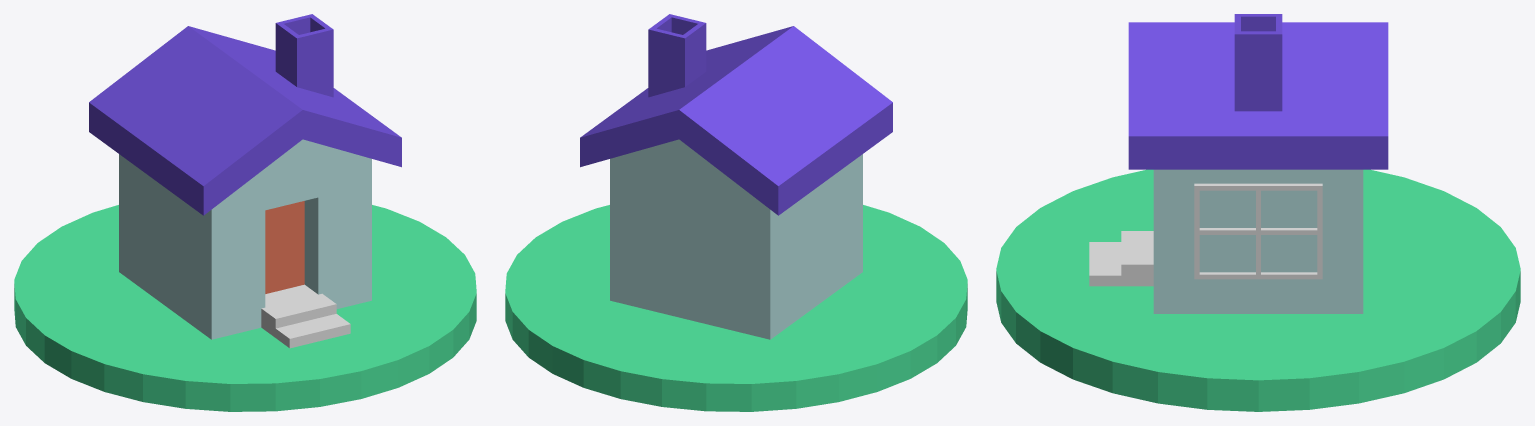
File: house.gltf
3 views of the same model, side by side, from view 1: azimuth 30°, elevation 25°; view 2: azimuth 150°, elevation 25°; view 3: azimuth 270°, elevation 25° (orthographic). The views are drawn at different scales.
Visible parts, largest first — view 1: 円, Cube, Cube.001, 立方体, 立方体.001, 立方体.002; view 2: 円, Cube, Cube.001, 立方体; view 3: 円, Cube.001, Cube, 立方体, Cube.002, 立方体.001, 立方体.002.
Boxes of the visible parts, box(x1,y1,x2,y2) form: 円: box(14, 205, 476, 411); Cube: box(119, 139, 371, 339); Cube.001: box(89, 26, 401, 215); 立方体: box(275, 14, 333, 97); 立方体.001: box(261, 284, 336, 337); 立方体.002: box(275, 314, 350, 348); 円: box(505, 205, 967, 411); Cube: box(610, 139, 862, 339); Cube.001: box(580, 26, 892, 215); 立方体: box(648, 14, 706, 97); 円: box(996, 169, 1520, 411); Cube.001: box(1128, 22, 1388, 169); Cube: box(1153, 169, 1363, 313); 立方体: box(1234, 14, 1282, 111); Cube.002: box(1194, 183, 1322, 279); 立方体.001: box(1121, 231, 1153, 286); 立方体.002: box(1089, 242, 1121, 286).
Bounding box in the file's own units: 5 × 3.26 × 5.
